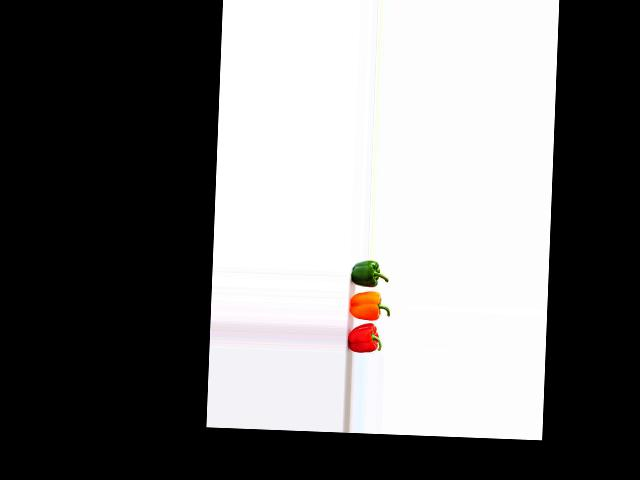bell_pepper: (348, 322, 389, 355)
